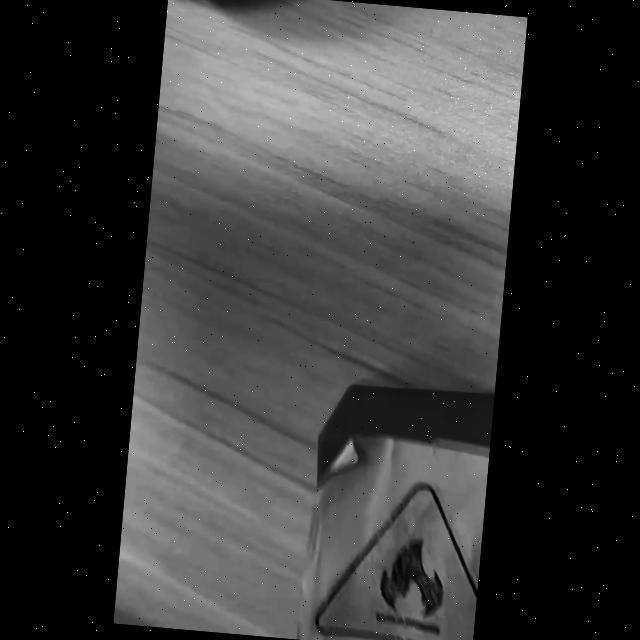Fire: (316, 483, 477, 640)
